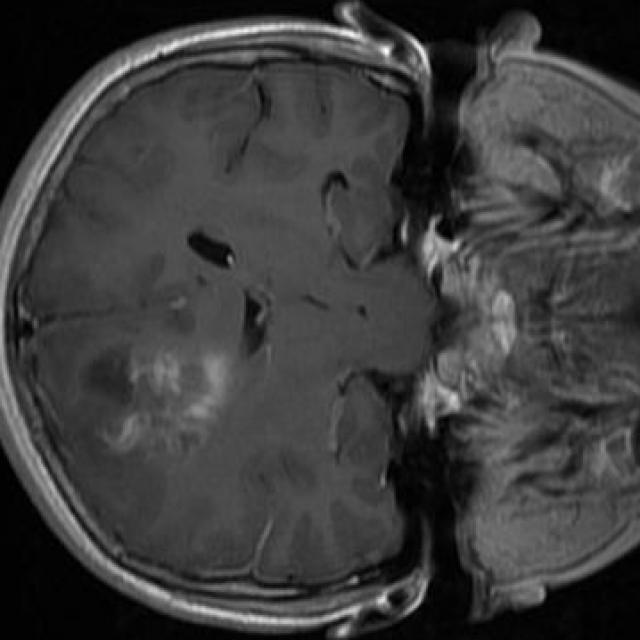glioma: (82, 346, 230, 456)
